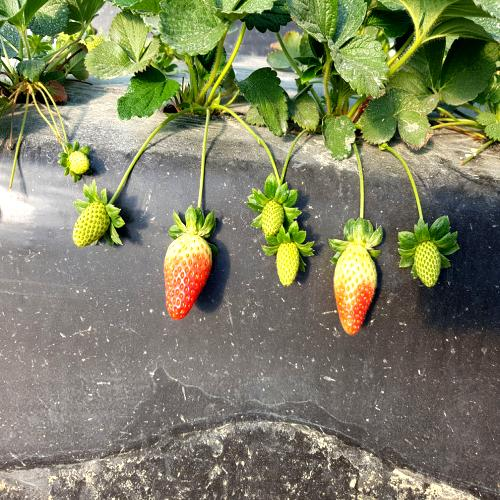partially-ripe: (332, 232, 382, 350), (163, 232, 221, 326)
